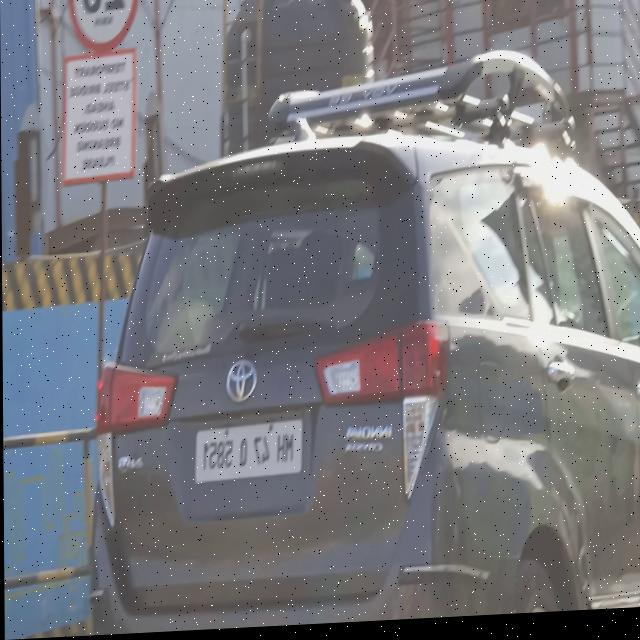plate: (192, 420, 300, 493)
